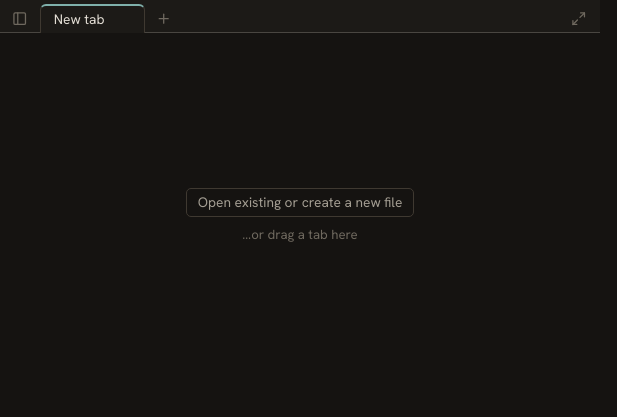
Scenario: CellEditor — layout integration smoke › starts an untouched empty tab with the Files pane hidden; the tab bar's toggle shows it on the left (C12)
Expected: the element showing "New tab" is shown, [40,4,180,33]
Expected: the text "New tab" is shown, [54,9,105,30]
Click the button named "Show files".
click(20, 19)  # box [7,9,33,29]
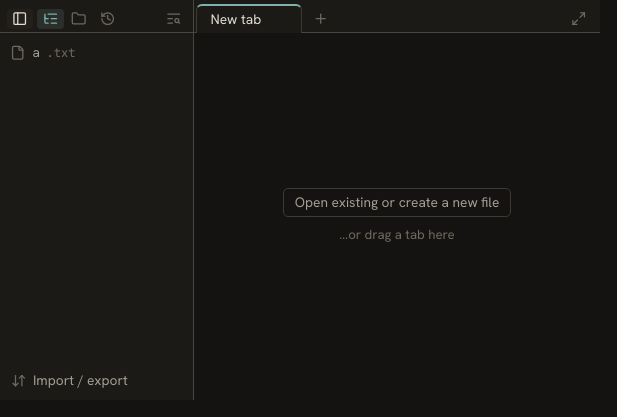
Result: the button named "Folder" is shown at [66,9,92,29]
Result: the button named "Tree" is shown at [37,9,64,29]
Click the button named "Hide files".
click(20, 19)  # box [7,9,33,29]
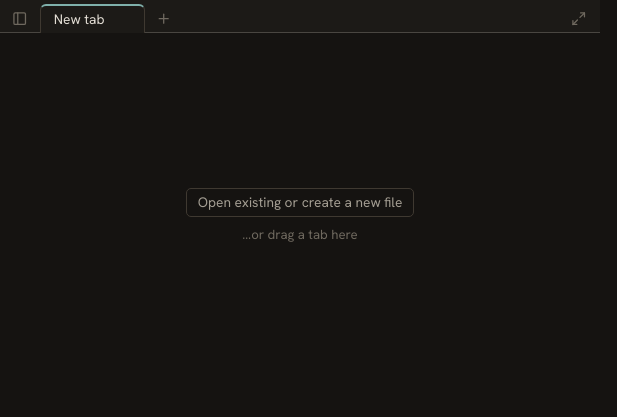
Result: the element "Files" is gone
Result: the button named "Show files" is shown at [7,9,33,29]
